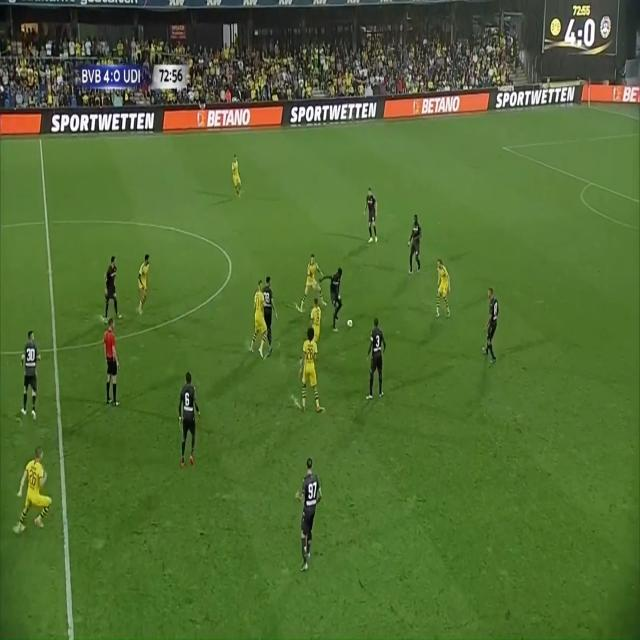ball: (343, 318, 355, 330)
player: (293, 453, 326, 591), (15, 453, 58, 545), (13, 325, 51, 426), (171, 370, 207, 475), (97, 247, 135, 336), (364, 312, 390, 408), (481, 285, 507, 374), (300, 329, 320, 419), (128, 244, 154, 312), (303, 248, 328, 318), (323, 265, 349, 332), (252, 274, 270, 361), (361, 183, 383, 248), (261, 264, 278, 346), (409, 210, 427, 274), (225, 155, 246, 206), (433, 255, 450, 317), (308, 296, 324, 345)
referee: (100, 316, 128, 415)
